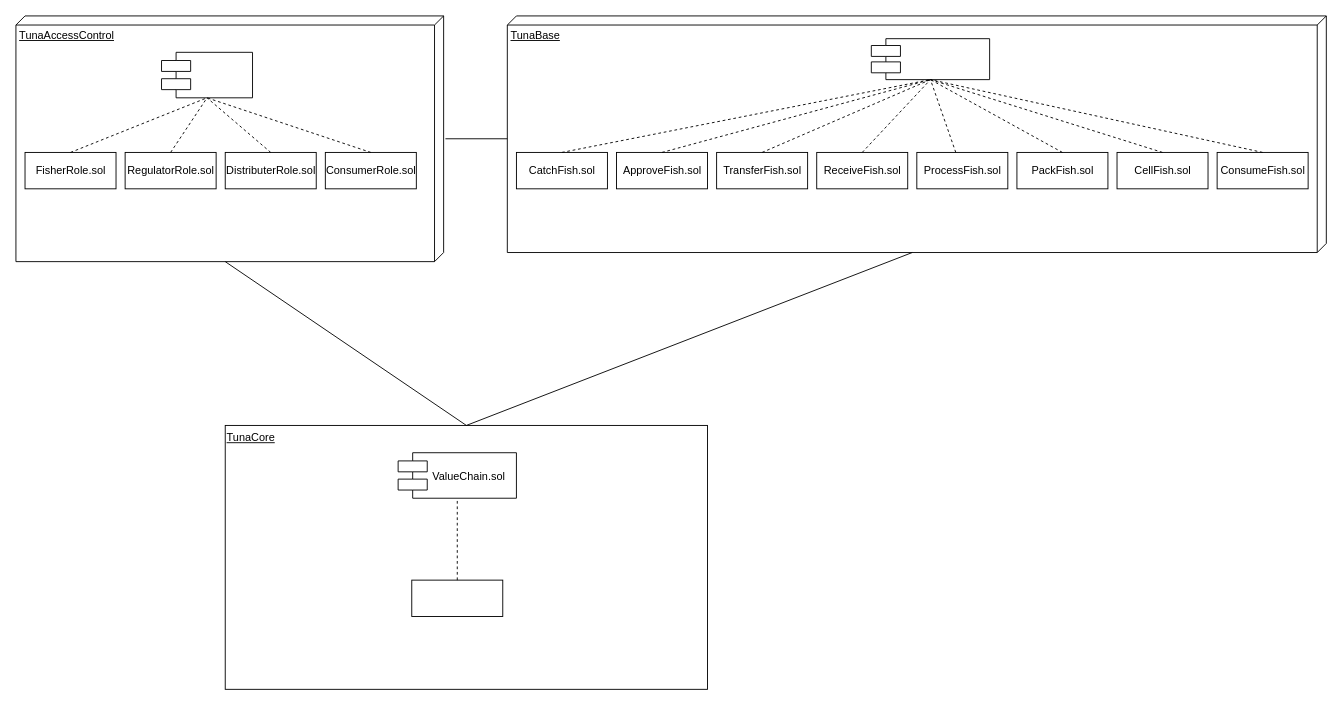
The diagram is 1342 pixels wide and 705 high, and some of its shapes have lost their labels. The centre of each missing label's shape, as x and y in pixels:
Ownable.sol: point (457, 598)
Roles.sol: point (207, 74)
SupplyChain.sol: point (930, 59)
